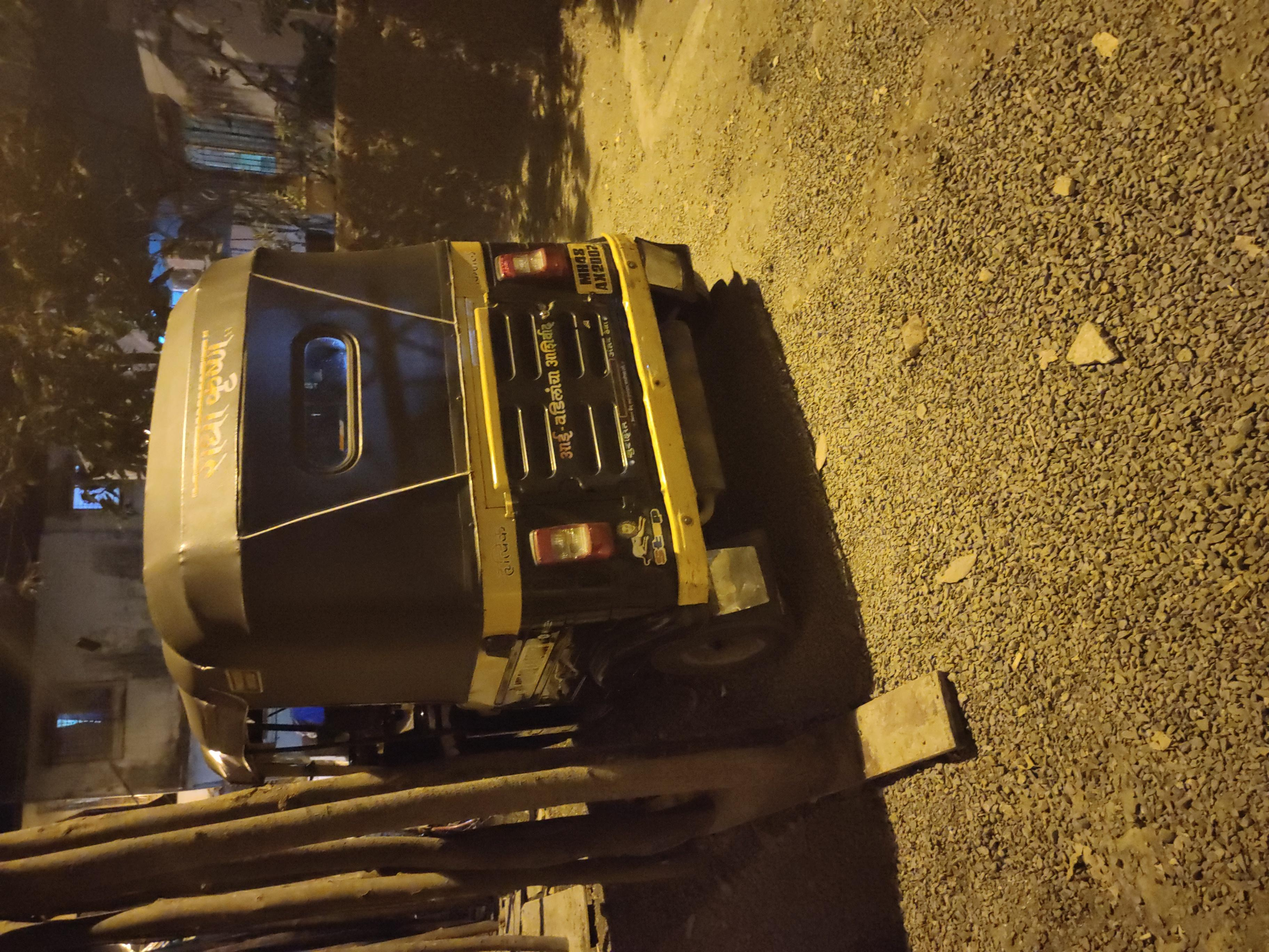Auto: (209, 103, 972, 582)
